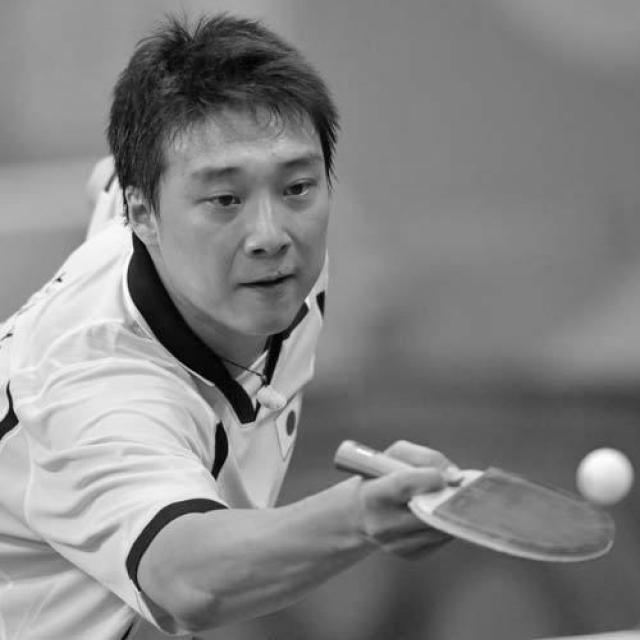ping-pong-ball: (574, 446, 638, 506)
